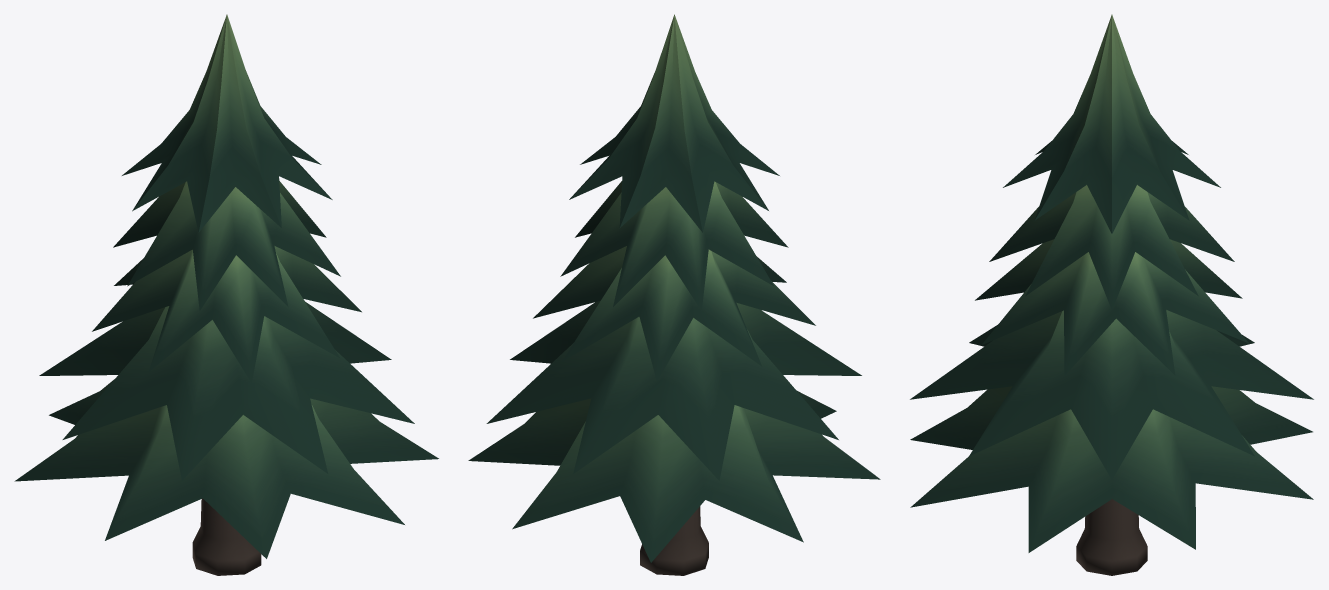
File: Tree_GreenWarm.fbx
The picture shows the model from 3 angles, left to right: view 1: azimuth 30°, elevation 25°; view 2: azimuth 150°, elevation 25°; view 3: azimuth 270°, elevation 25°; orthographic projection.
Parts seen in each view (by area): view 1: Tree_Pine3; view 2: Tree_Pine3; view 3: Tree_Pine3.
Boxes of the visible parts, x1,y1,x2,y2 form: Tree_Pine3: (14,14,438,575); Tree_Pine3: (468,14,880,575); Tree_Pine3: (910,14,1313,575).
Bounding box in the file's own units: 2.87 × 4.39 × 2.95.
